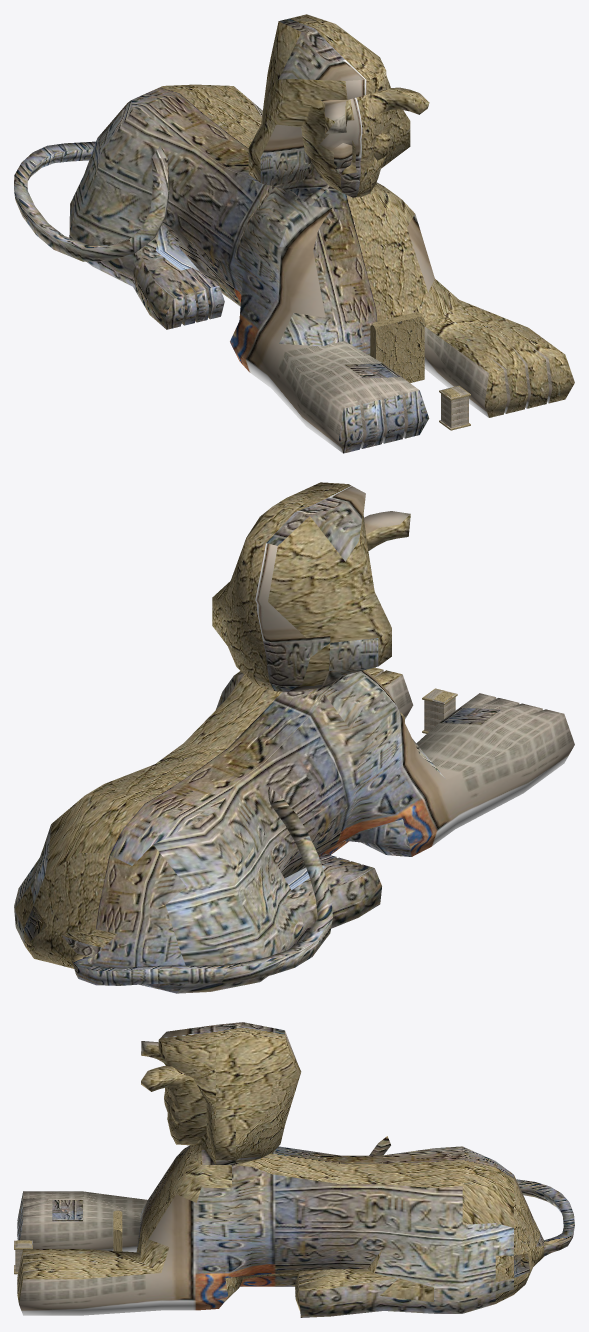
The model's file is sphinx.DAE.
The picture shows the model from 3 angles, top to bottom: view 1: azimuth 30°, elevation 25°; view 2: azimuth 150°, elevation 25°; view 3: azimuth 270°, elevation 25°; orthographic projection. The views are drawn at different scales.
Visible parts, largest first — view 1: Sphinx_PIVOT; view 2: Sphinx_PIVOT; view 3: Sphinx_PIVOT.
Boxes of the visible parts, x1,y1,x2,y2 form: Sphinx_PIVOT: [14, 14, 574, 453]; Sphinx_PIVOT: [14, 482, 574, 993]; Sphinx_PIVOT: [14, 1022, 574, 1317].
Bounding box in the file's own units: 593 × 1346 × 645.
